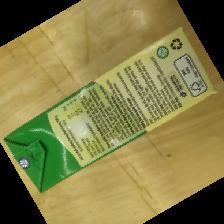NSPN_Hop: (4, 28, 218, 192)
